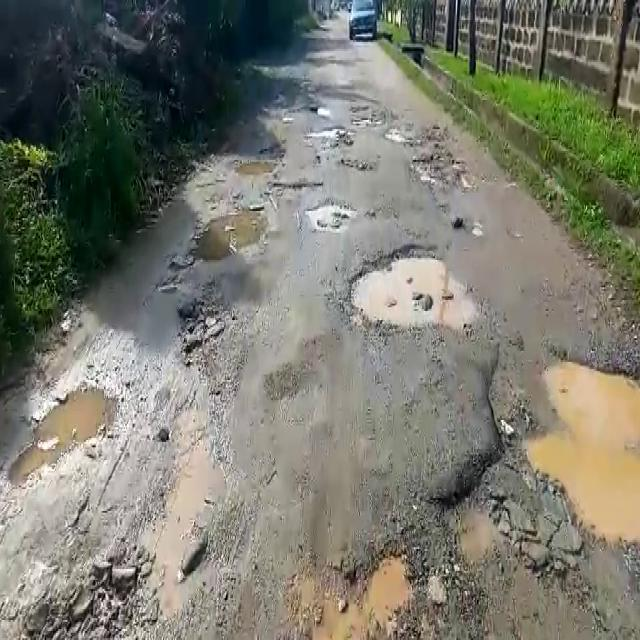pothole: (429, 349, 638, 567), (275, 536, 442, 640), (16, 554, 165, 640), (6, 381, 119, 494), (340, 243, 482, 331), (184, 207, 268, 268), (181, 296, 238, 364), (411, 149, 474, 192), (308, 200, 357, 233), (258, 177, 323, 195), (233, 152, 281, 176), (336, 155, 379, 173)
